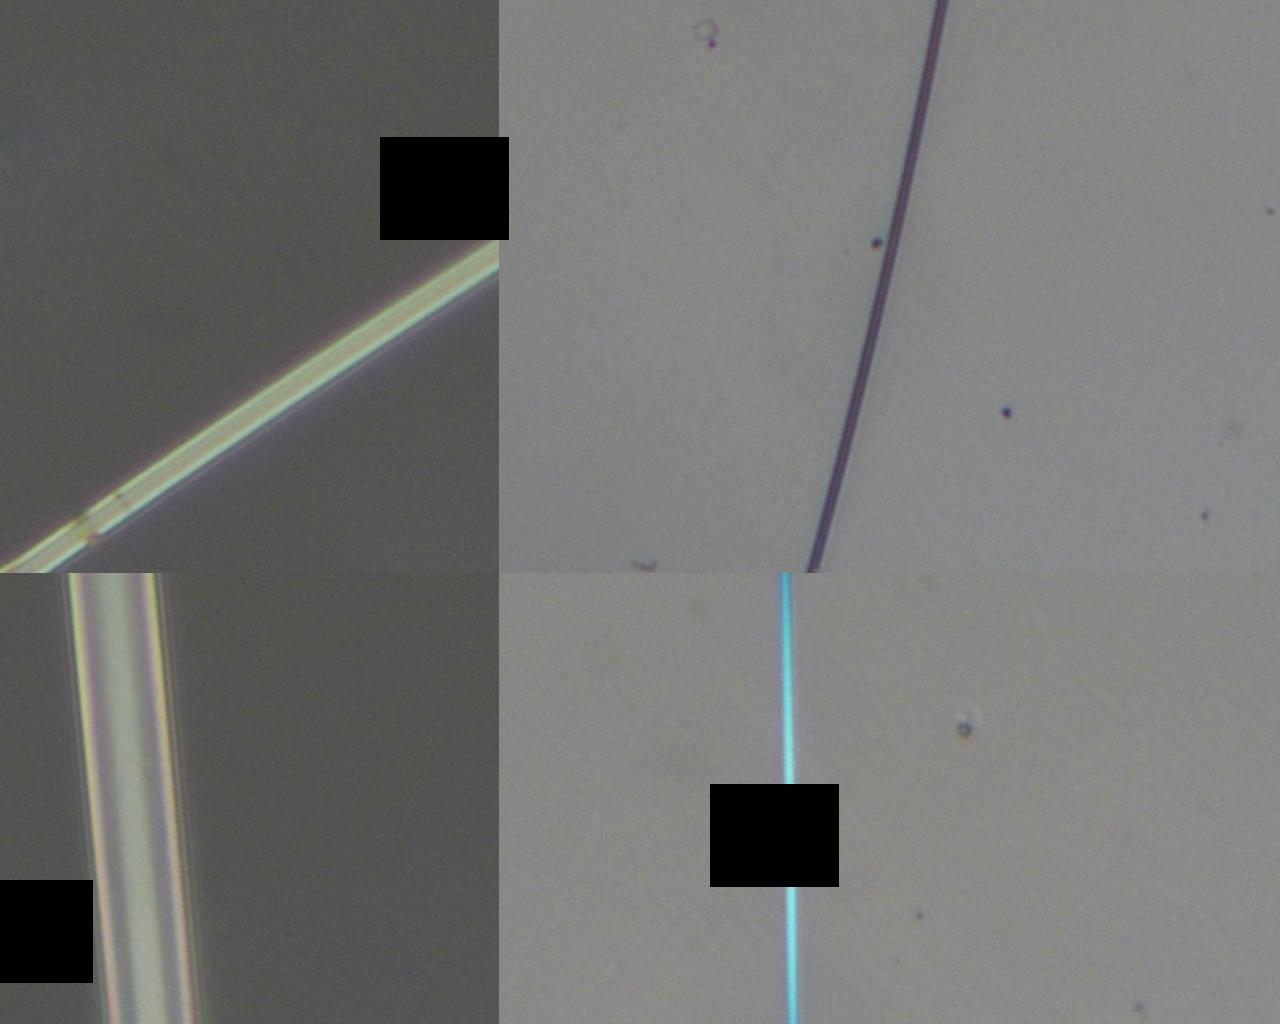fiber: (946, 0, 1163, 532), (645, 532, 875, 1024), (318, 0, 499, 532)
